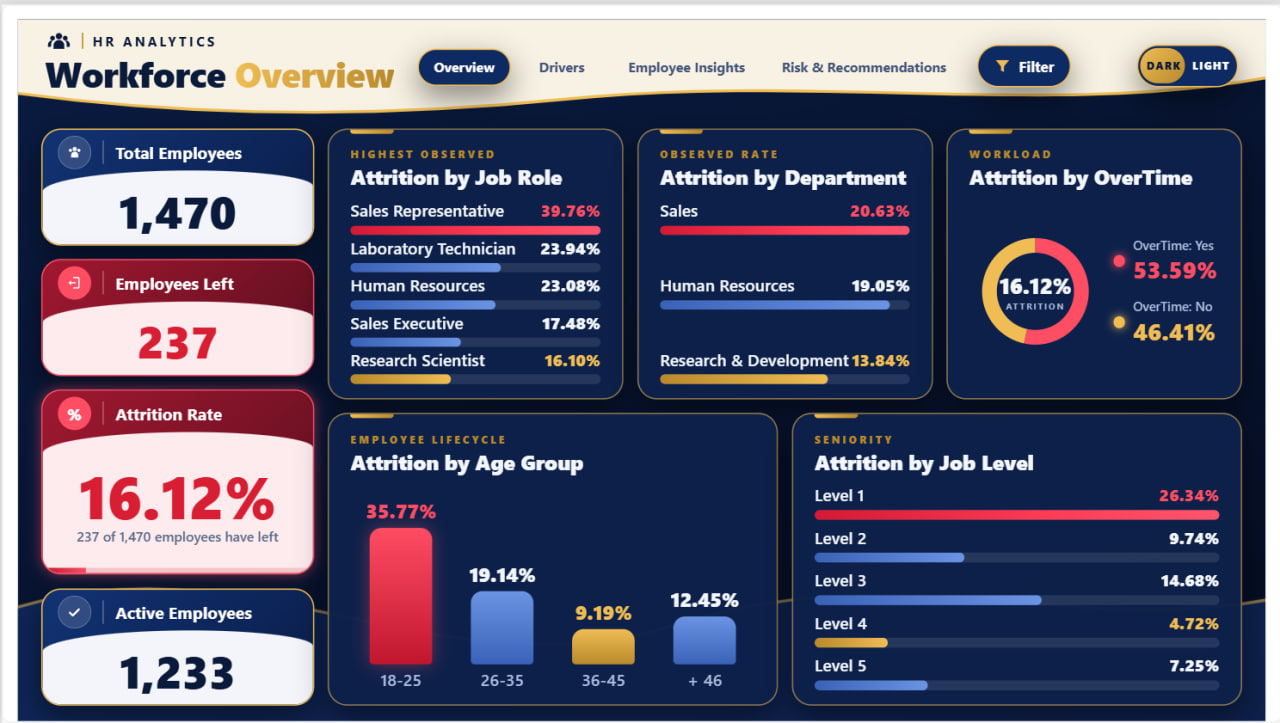

What the dashboard file says about the page in this screenshot:
{"tool":"powerbi","page":{"name":"Overview HTML","canvas":[1280,720],"ordinal":1},"visuals":[{"type":"htmlContent443BE3AD55E043BF878BED274D3A6855","fields":{"content":["DAX.HR Overview HTML"]},"box":[0,0,1281.4,718.6],"z":0},{"type":"actionButton","box":[520.8,43.4,86.8,39.6],"z":9000},{"type":"actionButton","box":[622.6,39.6,124.5,39.6],"z":10000},{"type":"actionButton","box":[781.1,43.4,166,39.6],"z":11000},{"type":"actionButton","box":[39.6,26.4,358.5,71.7],"z":12000}]}

Visuals, with their boxes in screenshot pixels (x1, y1, x2, y2), scaled from the page's 1280x720 canvas onto the 1280x723 screenshot:
htmlContent443BE3AD55E043BF878BED274D3A6855 - DAX.HR Overview HTML: [0,0,1279,722]
actionButton: [521,44,608,83]
actionButton: [623,40,747,80]
actionButton: [781,44,947,83]
actionButton: [40,27,398,99]
